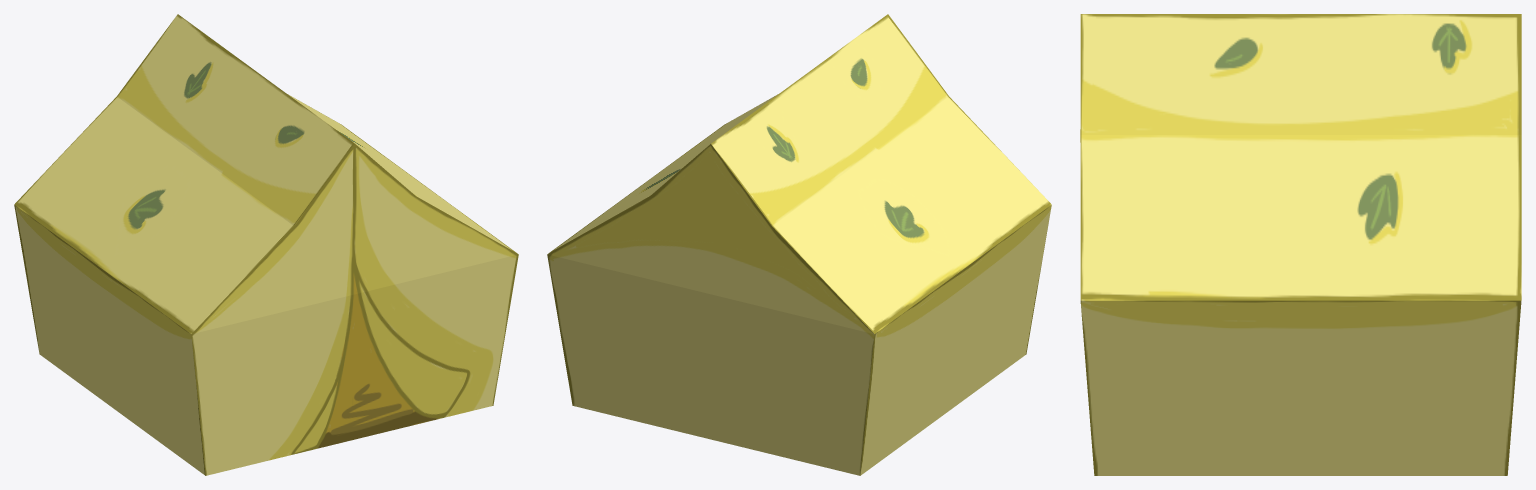
File: Tent UV.fbx
3 views of the same model, side by side, from view 1: azimuth 30°, elevation 25°; view 2: azimuth 150°, elevation 25°; view 3: azimuth 270°, elevation 25° (orthographic). The views are drawn at different scales.
Parts seen in each view (by area): view 1: pCube1; view 2: pCube1; view 3: pCube1.
Part boxes in pixels (<box>): pCube1: <box>14,14,518,475</box>; pCube1: <box>547,14,1051,475</box>; pCube1: <box>1080,14,1521,475</box>.
Bounding box in the file's own units: 10.7 × 9.41 × 10.04.
Materials: 1 (1 with a texture image).
